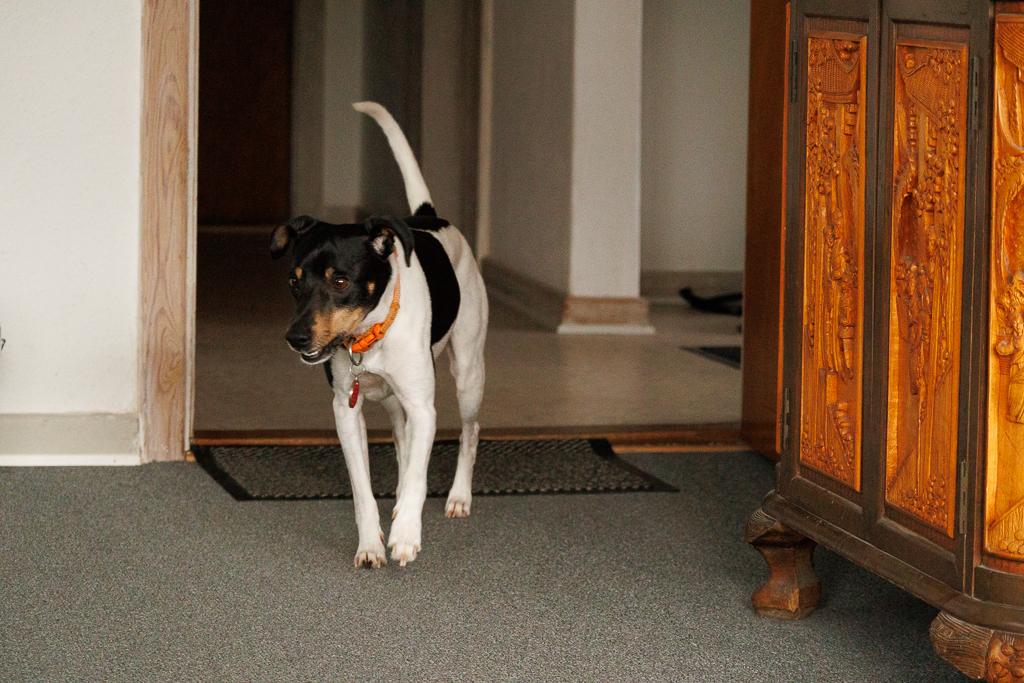Dog: (250, 90, 500, 577)
